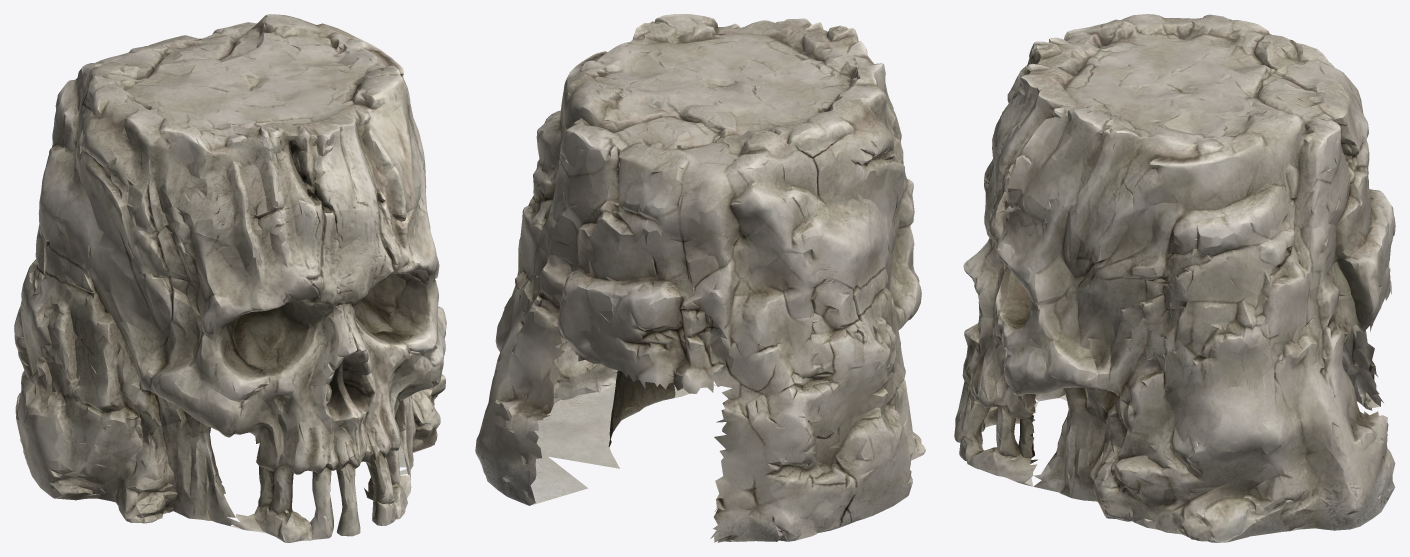
The model's file is sv_skullmouth.glb.
The picture shows the model from 3 angles, left to right: view 1: azimuth 30°, elevation 25°; view 2: azimuth 150°, elevation 25°; view 3: azimuth 270°, elevation 25°; orthographic projection. The views are drawn at different scales.
Size of the model in its own units: 1.86 by 1.78 by 1.85.
1 material, 1 textured.
